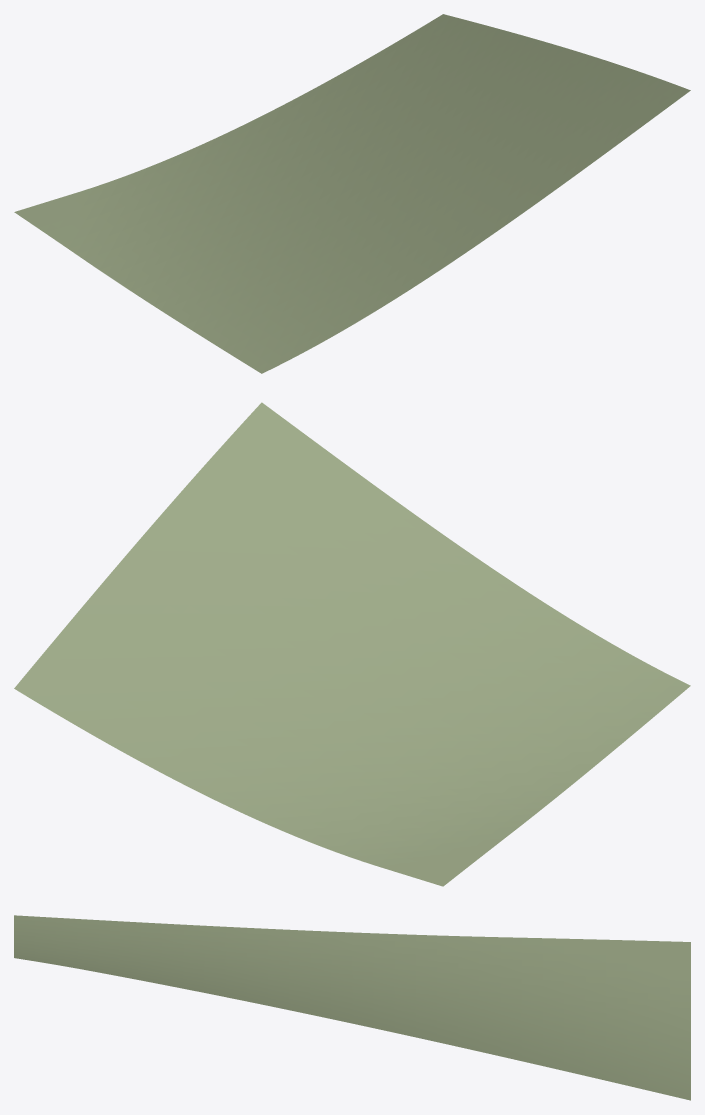
File: expanse-12-4.glb
The picture shows the model from 3 angles, top to bottom: view 1: azimuth 30°, elevation 25°; view 2: azimuth 150°, elevation 25°; view 3: azimuth 270°, elevation 25°; orthographic projection. The views are drawn at different scales.
Visible parts, largest first — view 1: expanse-12-4; view 2: expanse-12-4; view 3: expanse-12-4.
Part boxes in pixels (x1,y1,x2,y2): expanse-12-4: [14, 14, 690, 373]; expanse-12-4: [14, 402, 690, 886]; expanse-12-4: [14, 915, 690, 1100].
Size of the model in its own units: 256 by 113 by 256.
